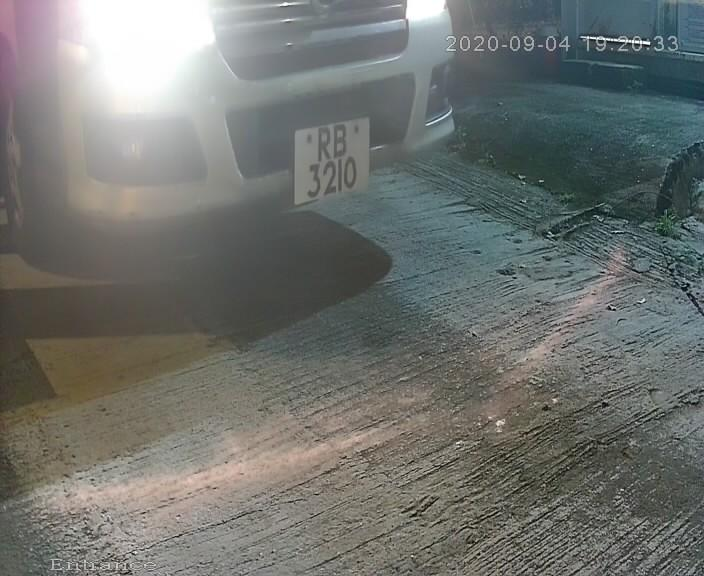License Plate: (283, 101, 374, 217)
